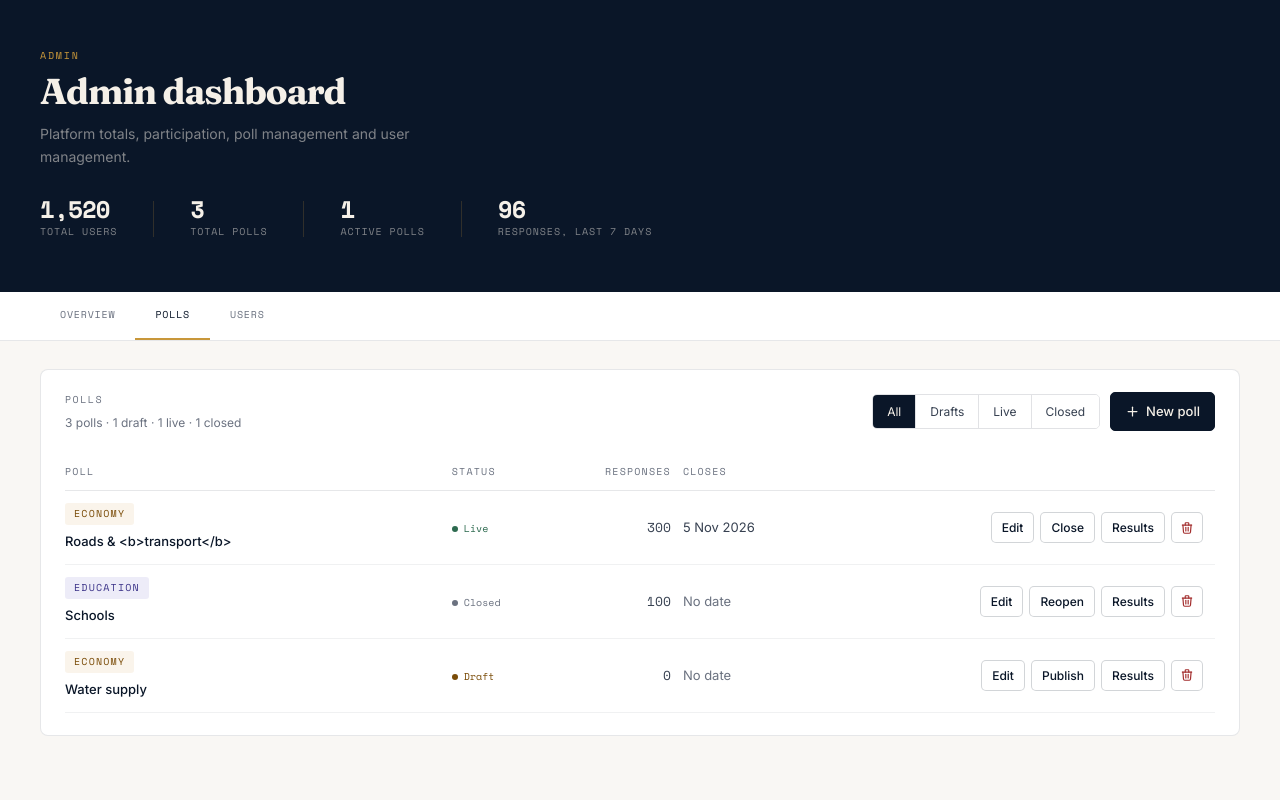
Scenario: poll list › deletes only after the confirmation, which says what is lost
Click the button named "Delete Schools": (1187, 601) [1171,586,1203,617]
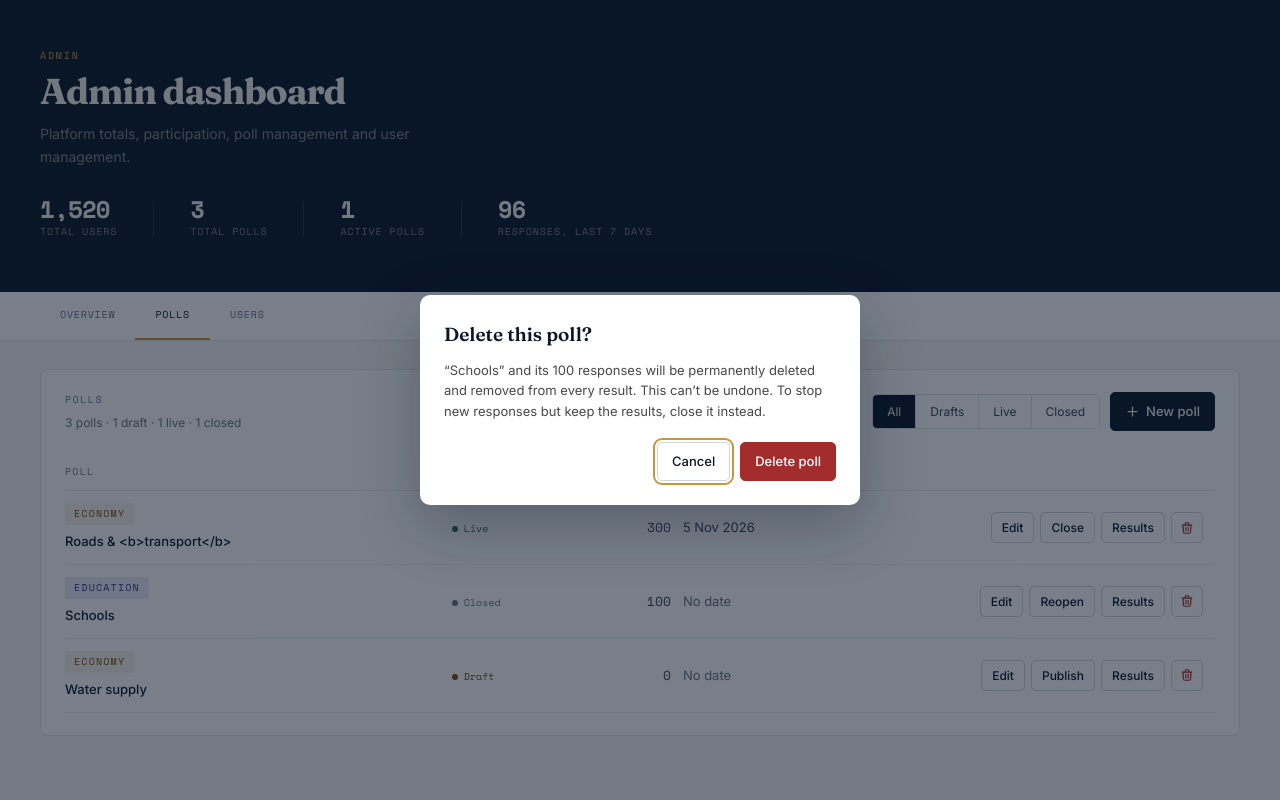
Expected: the dialog "Delete this poll?" shows "“Schools” and its 100 responses will be permanently deleted and removed from every result. This can’t be undone. To stop new responses but keep the results, clo", [444,362,822,419]
Click the button "Cancel": (694, 461) [657,442,730,481]
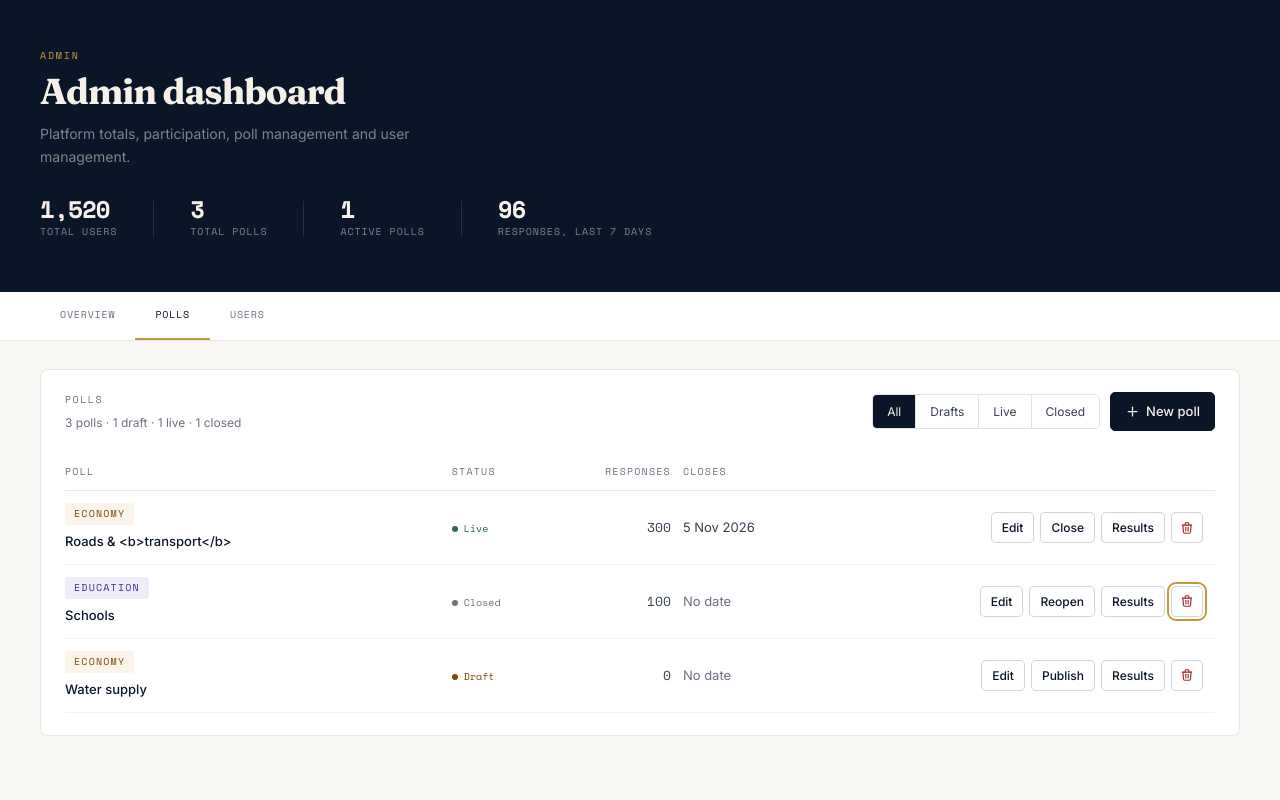
Click the button named "Delete Schools": (1187, 601) [1171,586,1203,617]
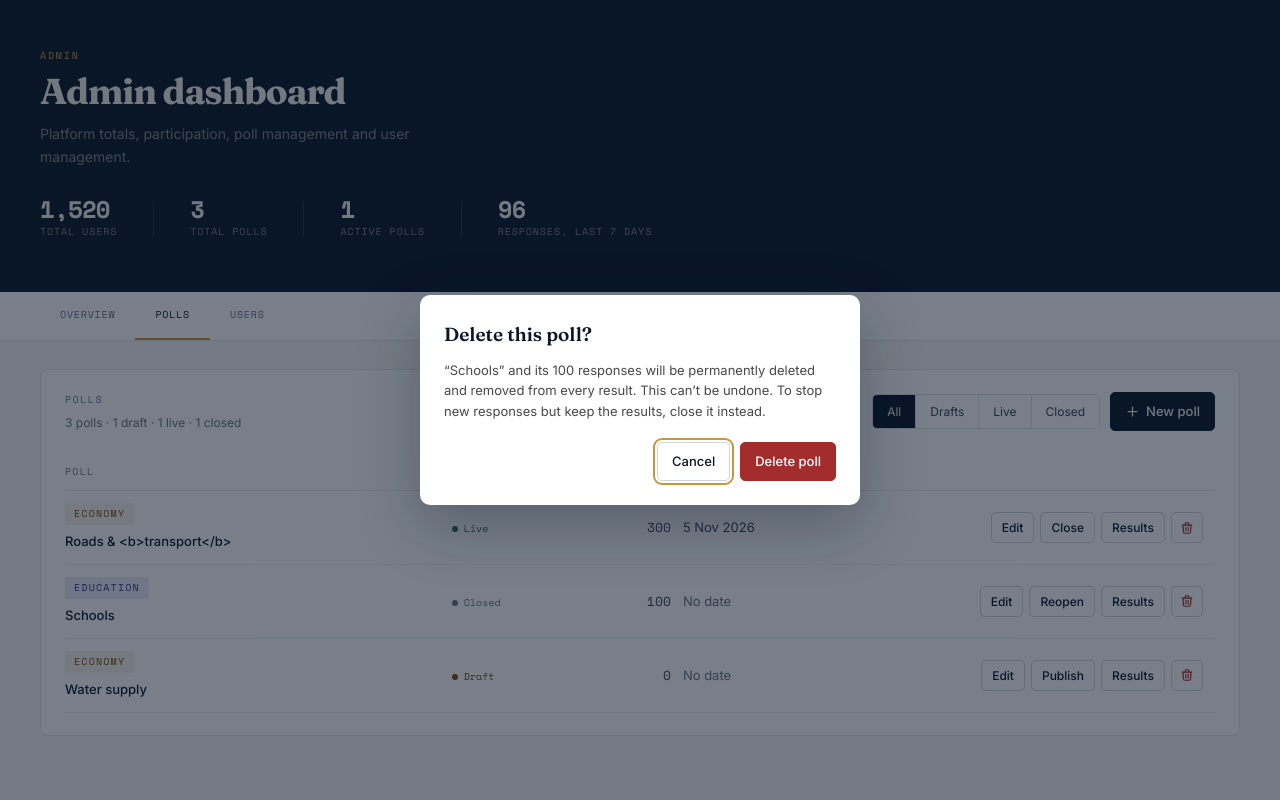
Click the button "Delete poll": (788, 461) [740,442,836,481]
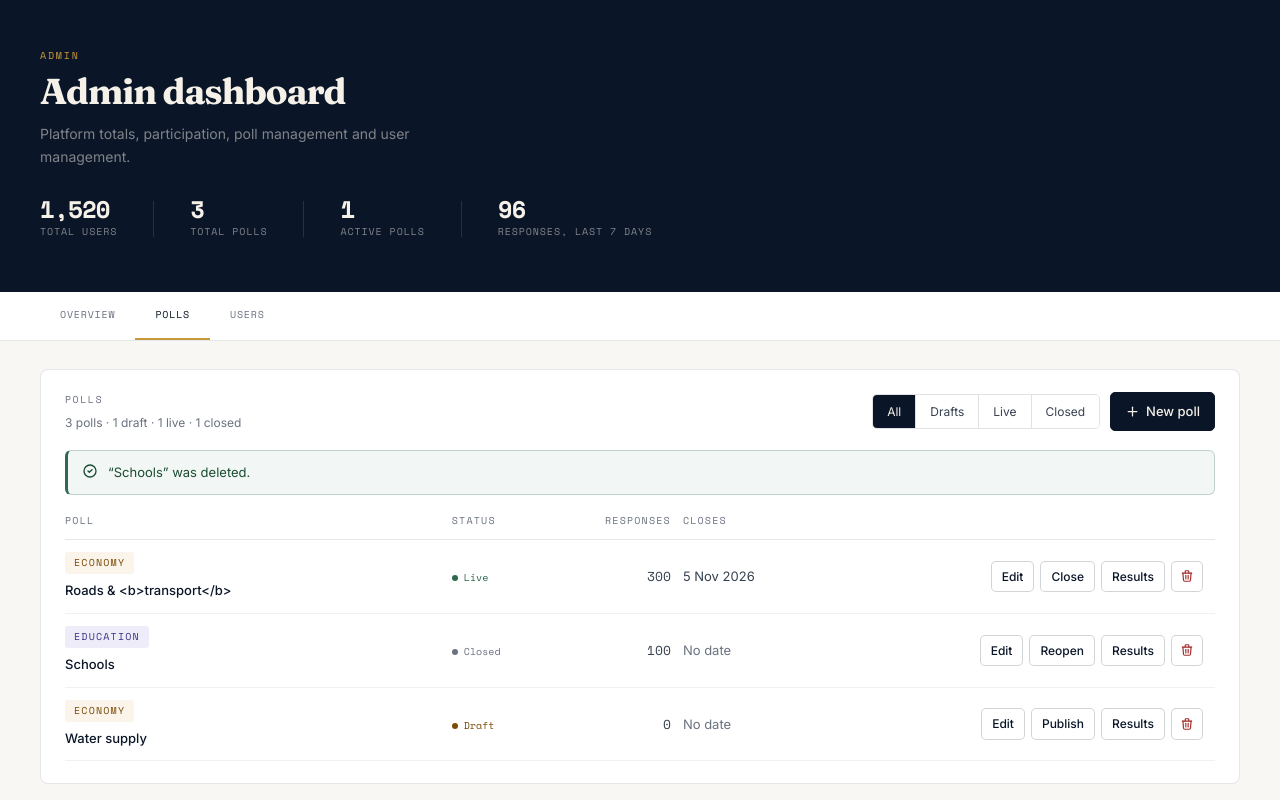
Expected: the message reads "“Schools” was deleted.", [108,464,250,480]
